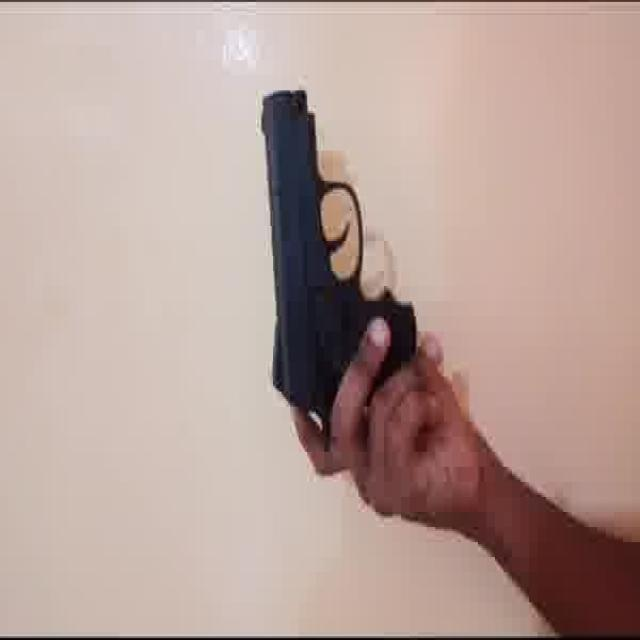weapon: (261, 88, 424, 450)
